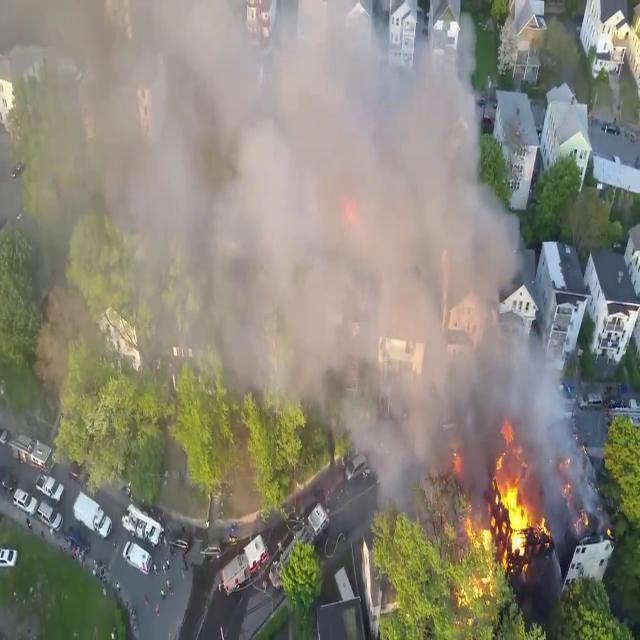Fire: (464, 446, 548, 560)
Smoke: (7, 0, 548, 536)
